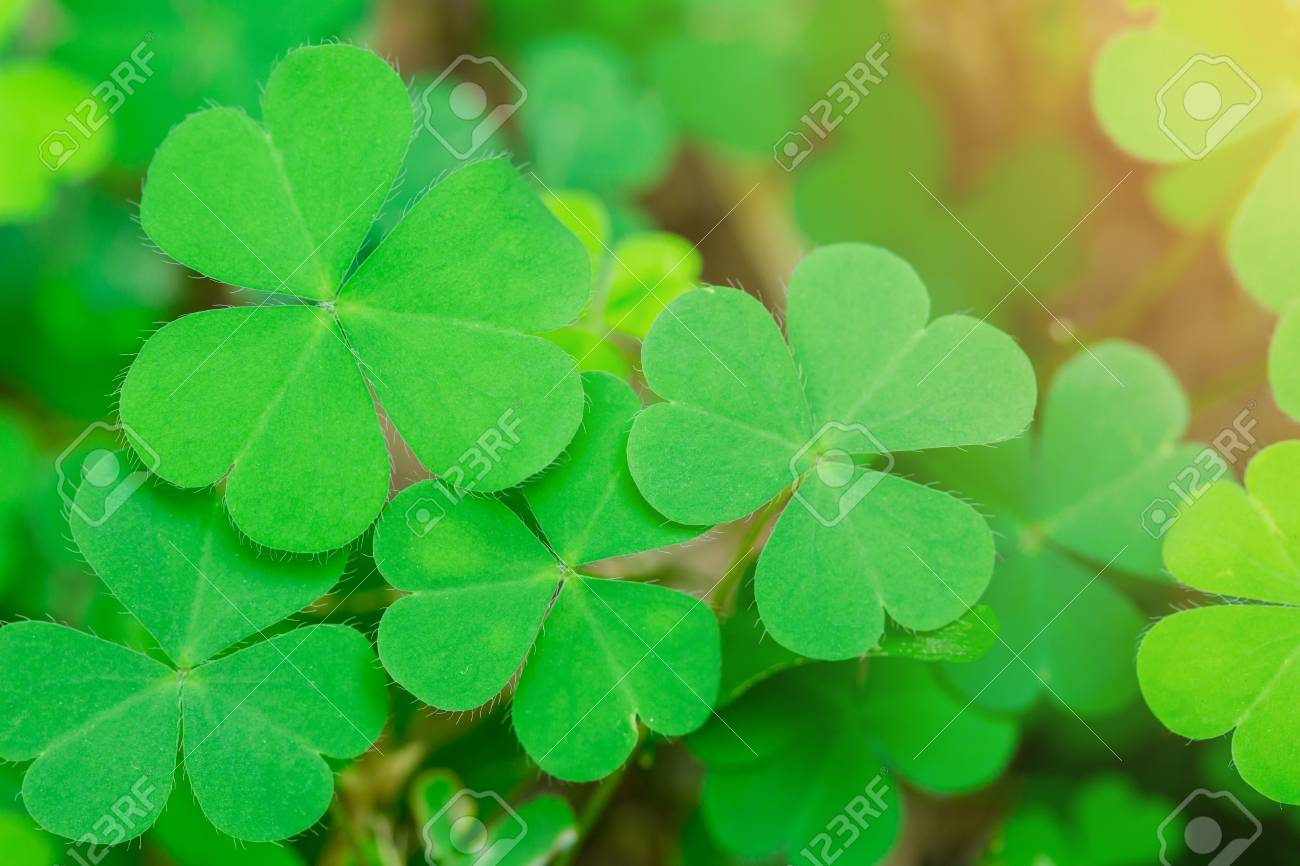oxalis: (135, 95, 1095, 788), (1140, 443, 1286, 823)
